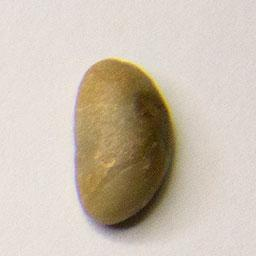longberry: (68, 54, 178, 230)
